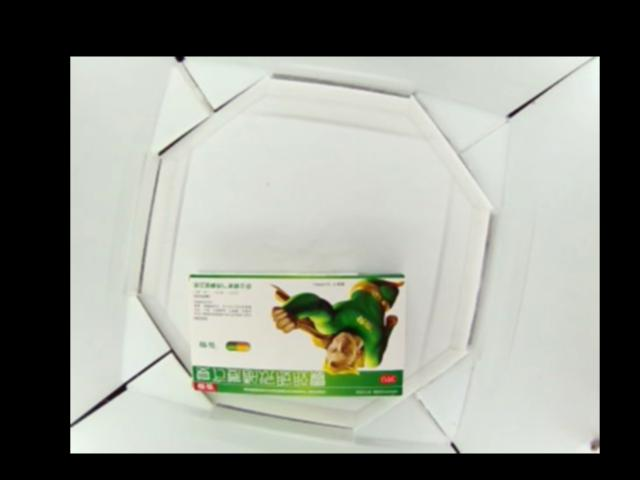Medicine: (191, 272, 406, 395)
